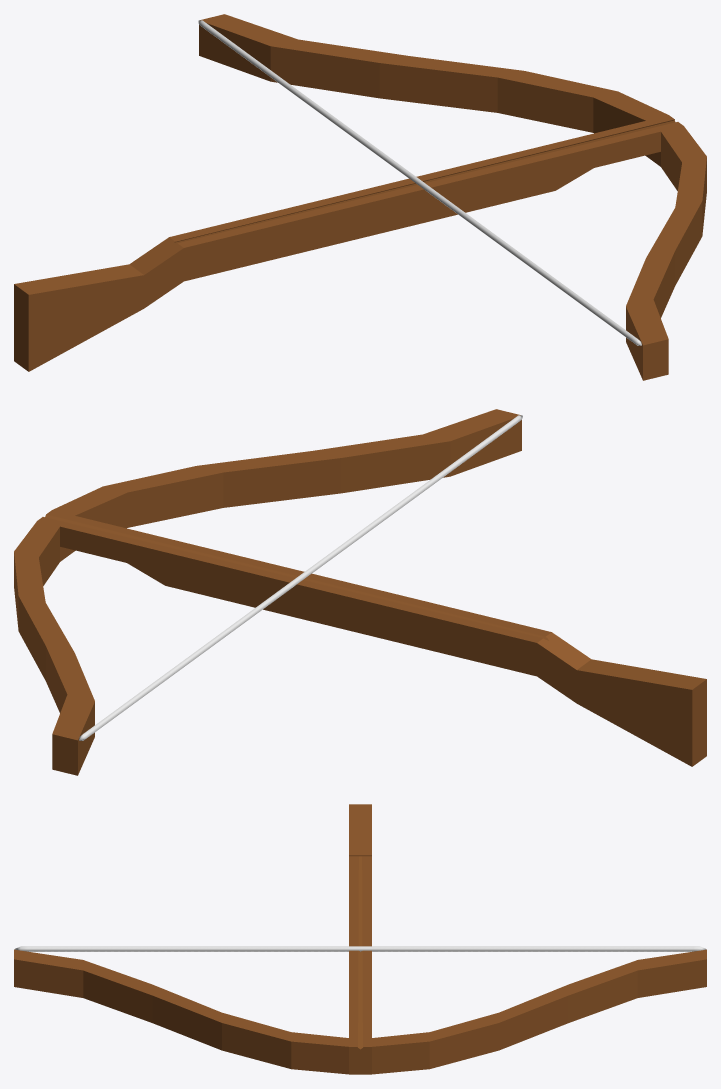
The model's file is CrossbowOnTable.fbx.
3 views of the same model, one above another, from view 1: azimuth 30°, elevation 25°; view 2: azimuth 150°, elevation 25°; view 3: azimuth 270°, elevation 25° (orthographic). The views are drawn at different scales.
Parts seen in each view (by area): view 1: Crossbow; view 2: Crossbow; view 3: Crossbow.
Boxes of the visible parts, x1,y1,x2,y2 form: Crossbow: (14,14,706,380); Crossbow: (14,409,706,775); Crossbow: (14,804,706,1074).
Bounding box in the file's own units: 511 × 600 × 66.89.
